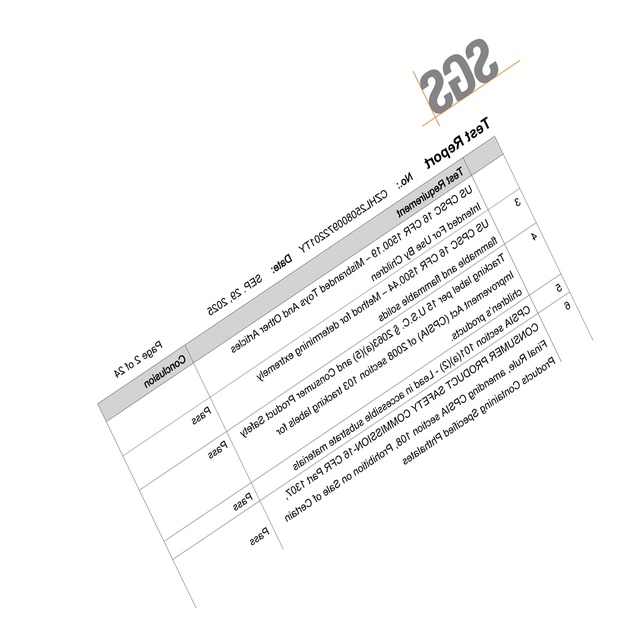sgs: (419, 37, 497, 114)
